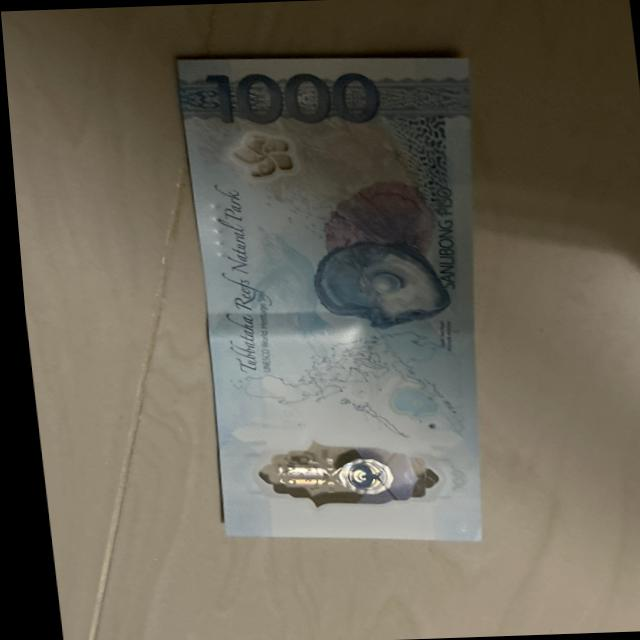clear_window: (236, 442, 455, 521)
sampaguita: (221, 130, 306, 182)
value: (192, 59, 388, 130)
